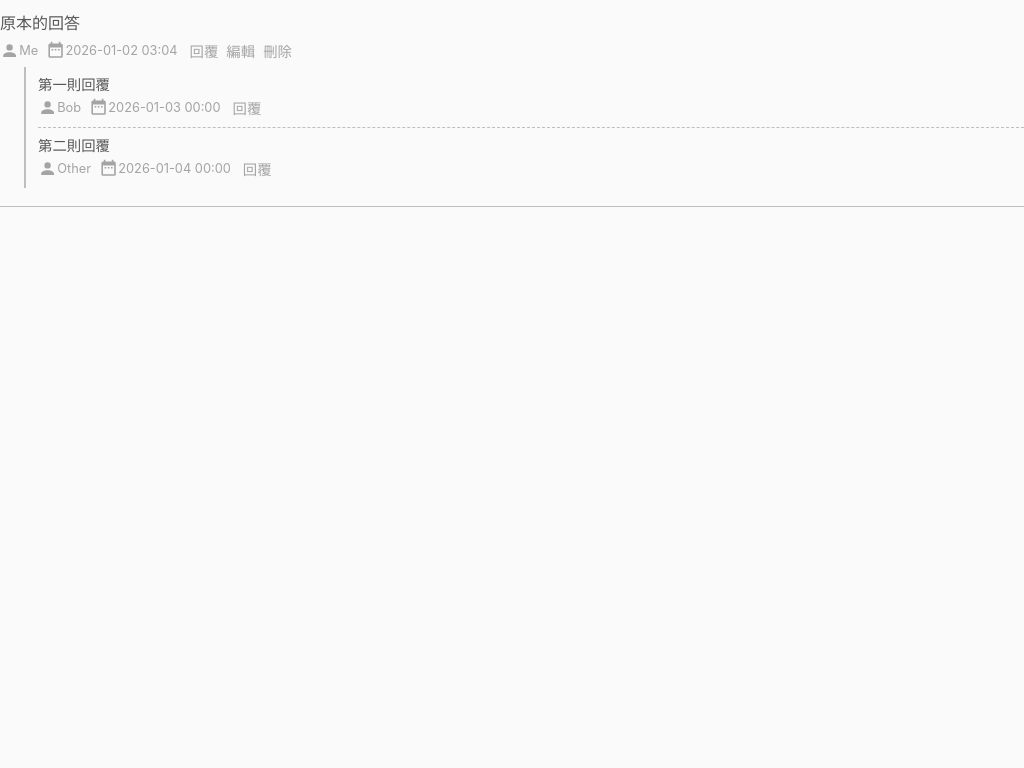
Test: AnswerCard › 留言串 › 刪除有回覆的回答時提示回覆會一併刪除
Click the text "刪除".
click(278, 52)  # box [263, 43, 292, 60]
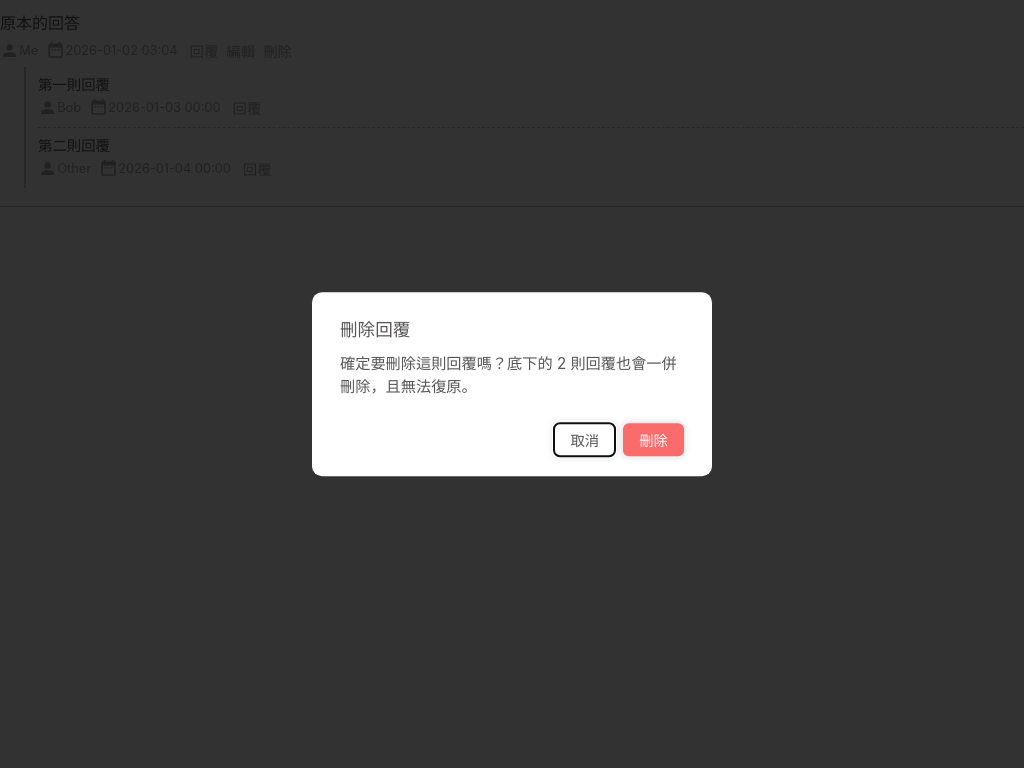
Check: the text "確定要刪除這則回覆嗎？底下的 2 則回覆也會一併刪除，且無法復原。" is shown, box [340, 353, 684, 399]
